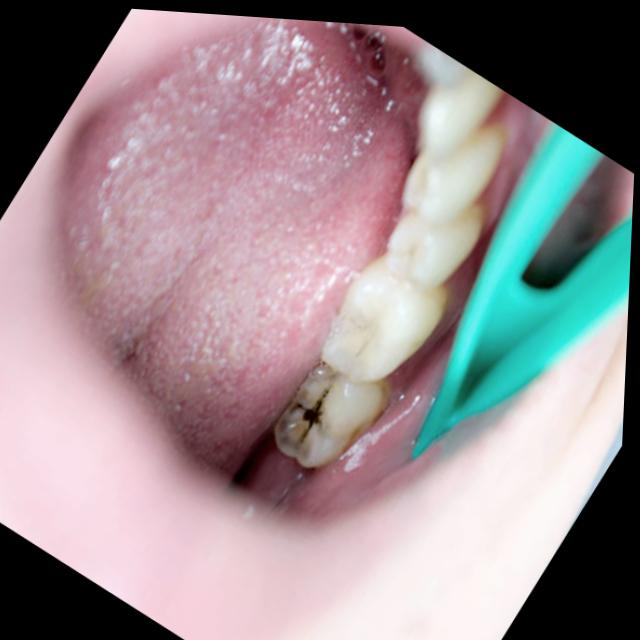cariess: (274, 364, 379, 468)
